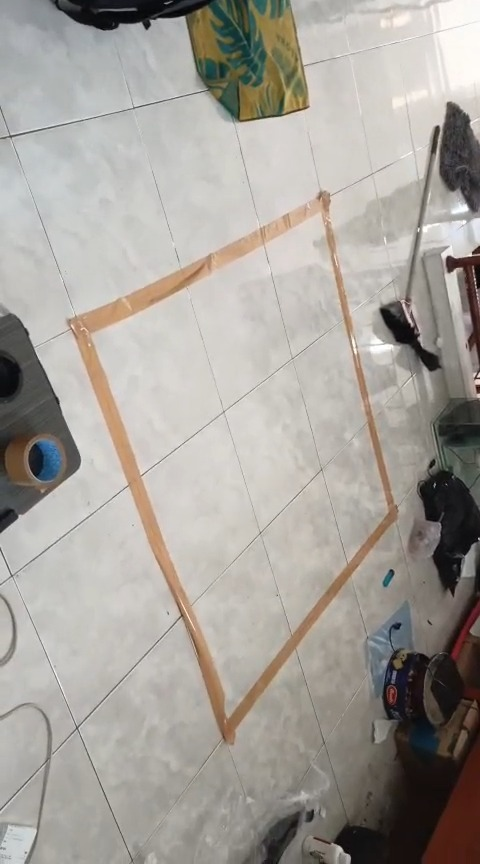floor marking: (69, 193, 396, 743)
